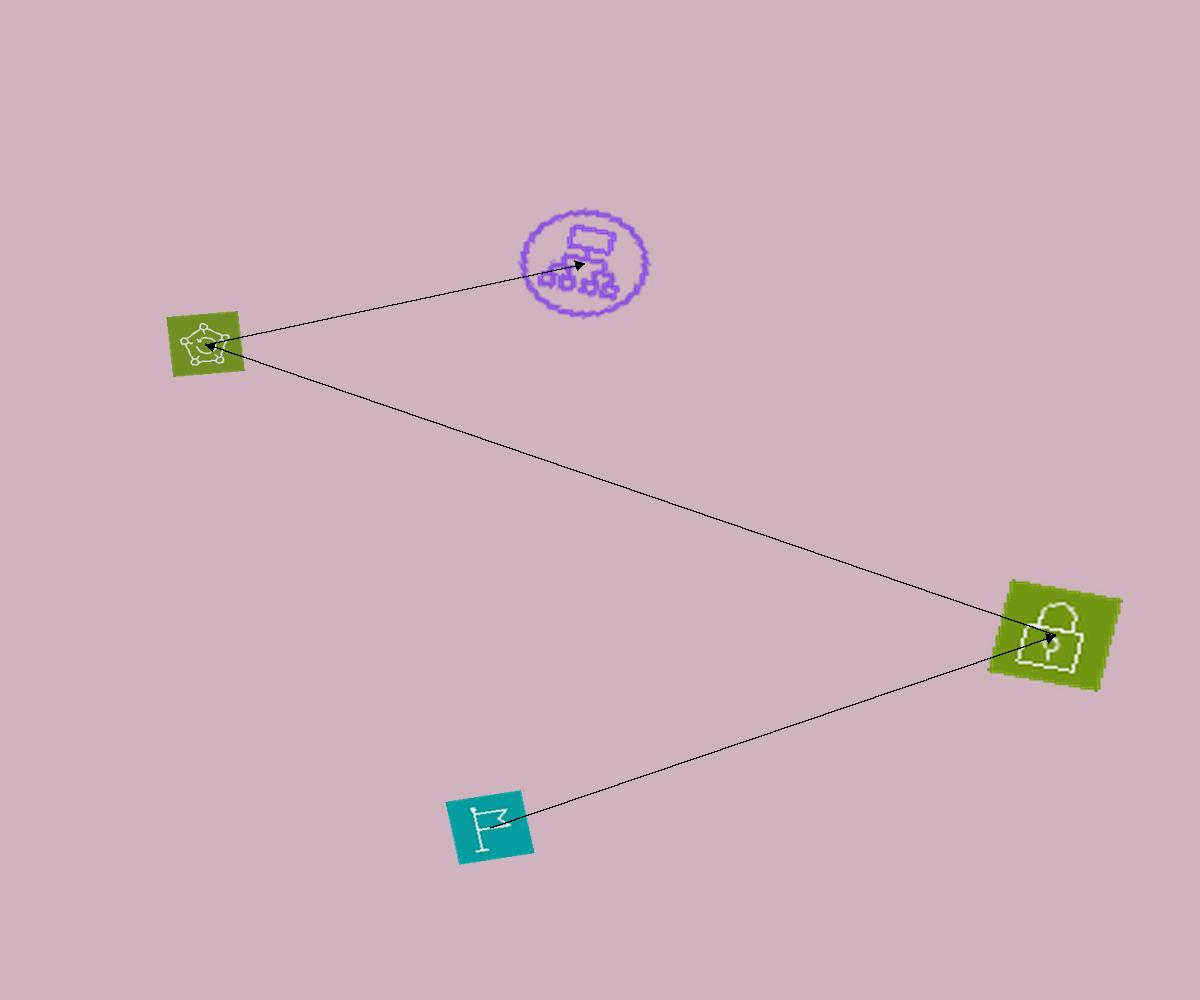AWS-Backup: (166, 311, 245, 377)
AWS-Public-subnet: (987, 579, 1123, 692)
AWS-Region: (445, 790, 535, 865)
AWS-Res_Elastic-Load-Balancing_Application-Load-Balancer: (500, 193, 669, 334)
